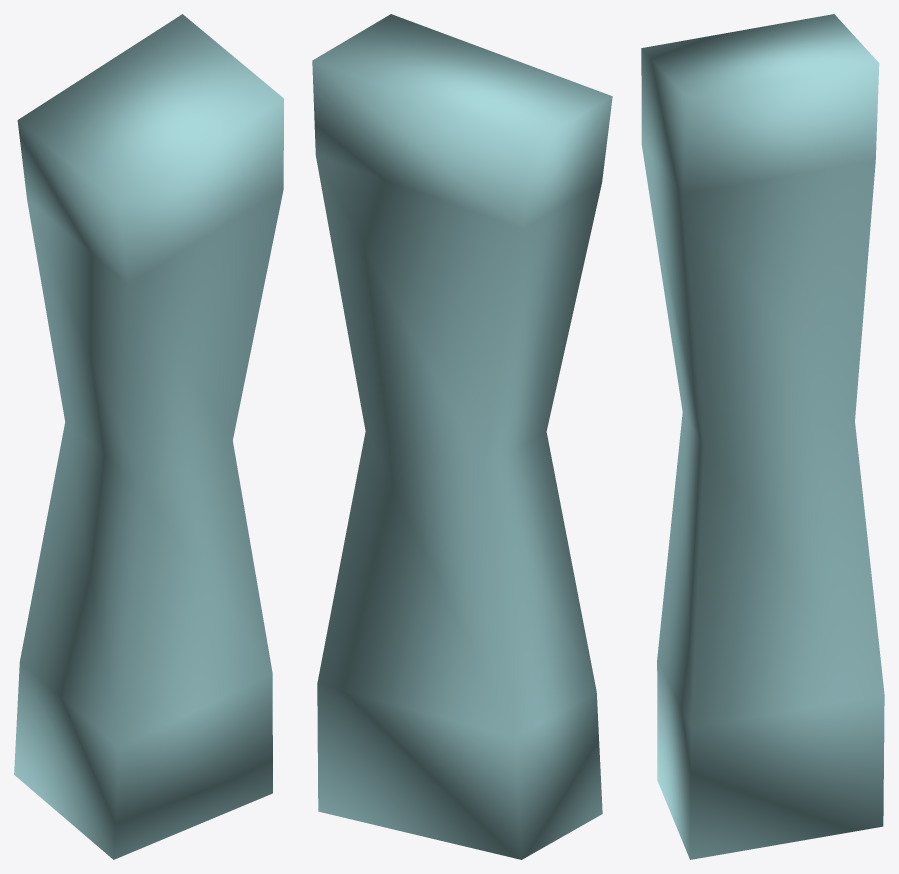
The model's file is Skelly_thumb.01.R.fbx.
3 views of the same model, side by side, from view 1: azimuth 30°, elevation 25°; view 2: azimuth 150°, elevation 25°; view 3: azimuth 270°, elevation 25° (orthographic). The views are drawn at different scales.
Parts seen in each view (by area): view 1: Skelly_thumb.01.R; view 2: Skelly_thumb.01.R; view 3: Skelly_thumb.01.R.
Boxes of the visible parts, left/top/right/bottom form: Skelly_thumb.01.R: left=14, top=14, right=283, bottom=859; Skelly_thumb.01.R: left=312, top=14, right=612, bottom=859; Skelly_thumb.01.R: left=641, top=14, right=884, bottom=859.
Size of the model in its own units: 1.11 by 3.89 by 1.06.
